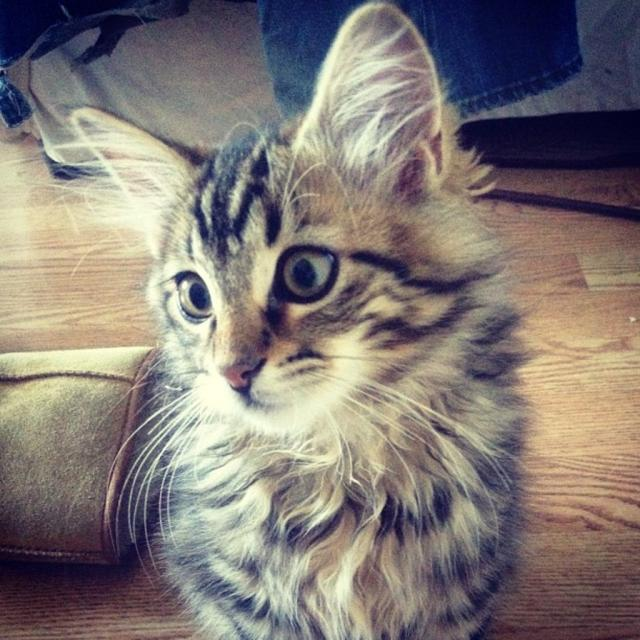Cat: (36, 1, 546, 640)
